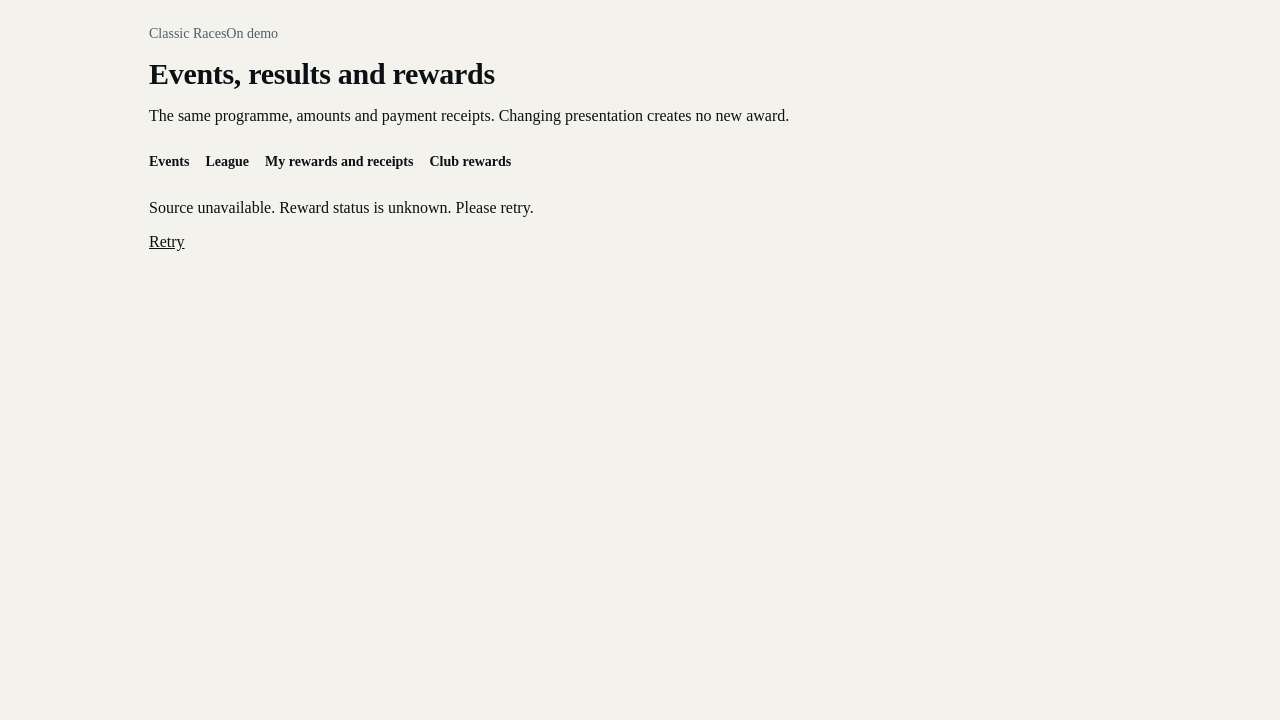
Test: classic organizer source continuity › failed reads expose a retry without inventing source or payment state
Expected: the message shows "Reward status is unknown", [149,199,534,216]
Step 1. Click the button "Retry" → (167, 242), box [149,220,184,264]
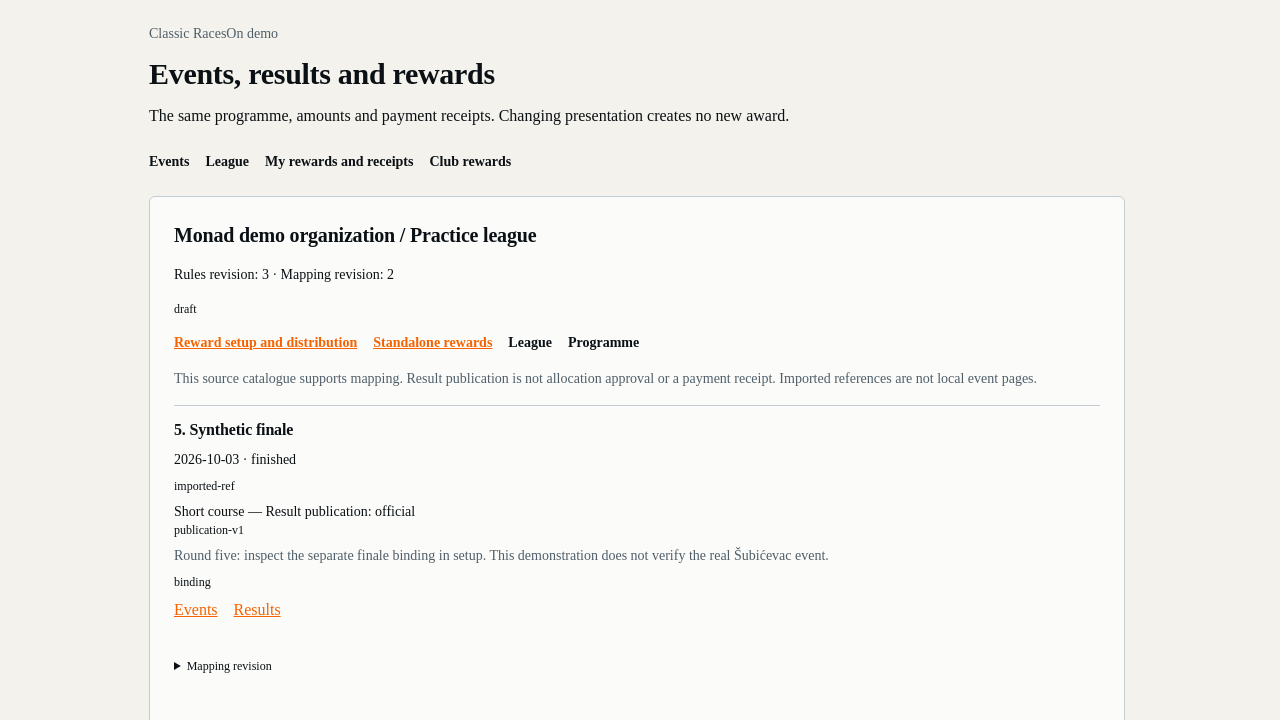
Expected: the text "publication-v1" is shown, [174,523,244,537]
